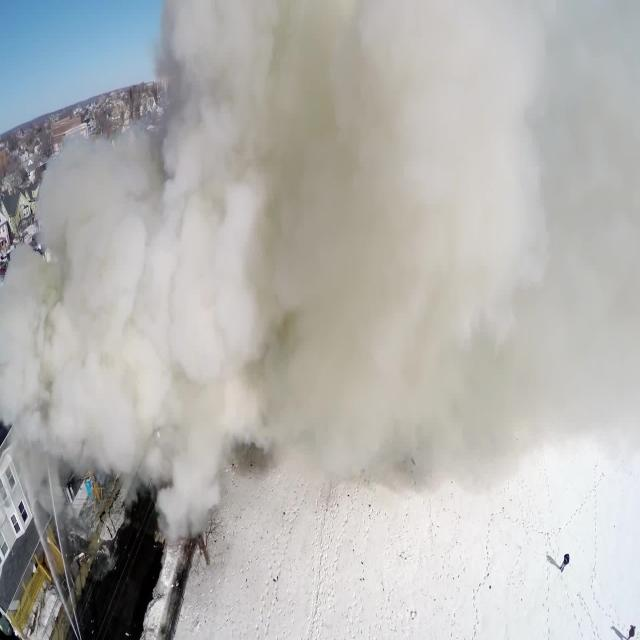Smoke: (1, 1, 640, 550)
